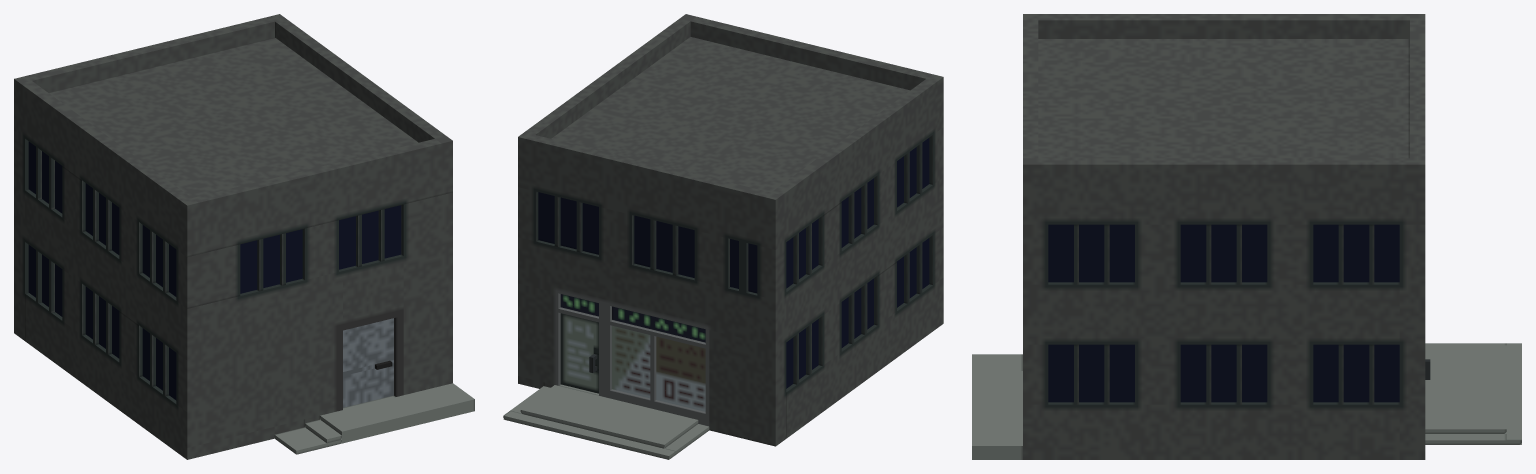
File: pozyczki.dae
3 renders of one model, left to right at view 1: azimuth 30°, elevation 25°; view 2: azimuth 150°, elevation 25°; view 3: azimuth 270°, elevation 25°, orthographic. The views are drawn at different scales.
Visible parts, largest first — view 1: Content; view 2: Content; view 3: Content.
Boxes of the visible parts, <box> form: Content: <box>14,14,474,459</box>; Content: <box>503,14,943,459</box>; Content: <box>972,14,1521,459</box>.
Bounding box in the file's own units: 70 × 64 × 108.
Materials: 1 (1 with a texture image).
